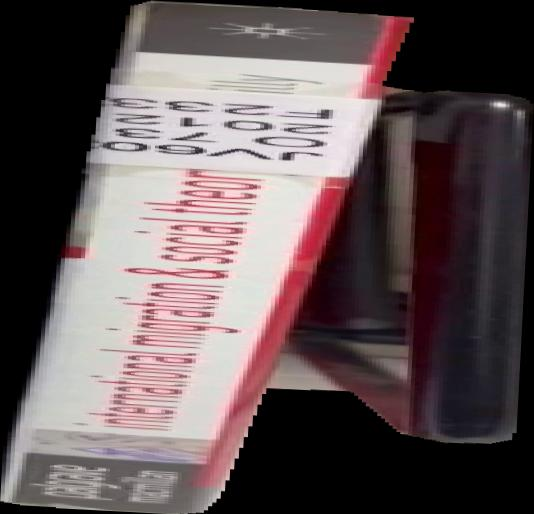reverse: (1, 1, 534, 514)
